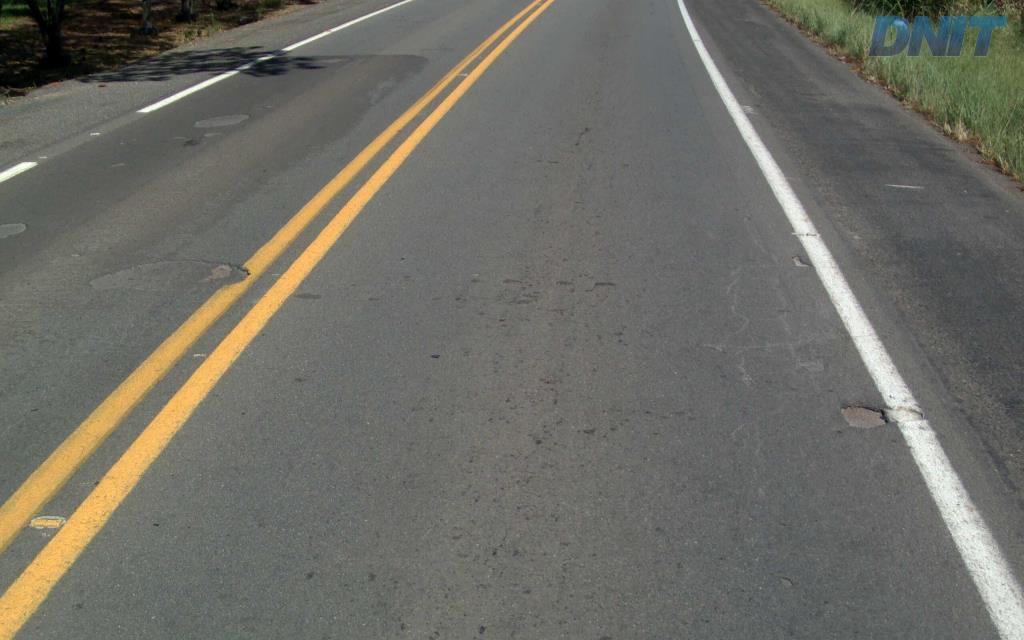pothole: (834, 391, 893, 442), (790, 250, 809, 269)
